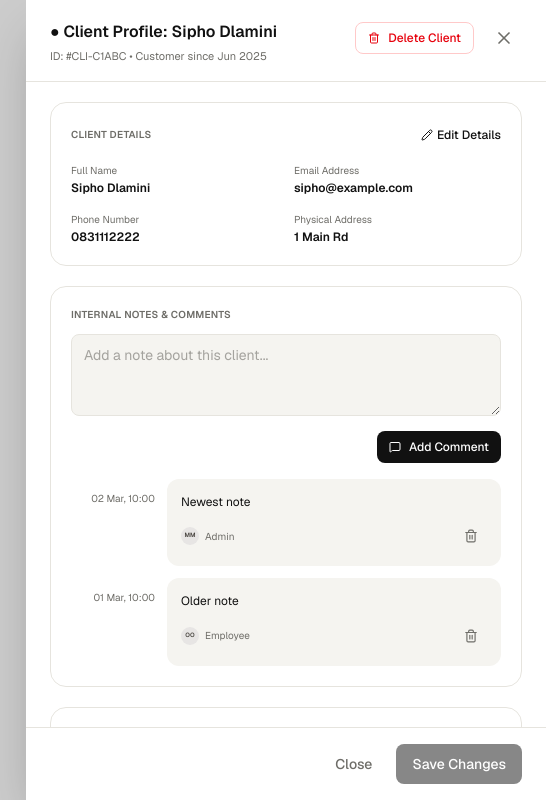
editing details › switches to editable inputs prefilled with the current values
This screenshot has width=546, height=800.
Expected: the heading "● Client Profile: Sipho Dlamini" is shown, [50,20,277,44]
Click the button "Edit Details" at point(461, 134), box [421,122,501,146]
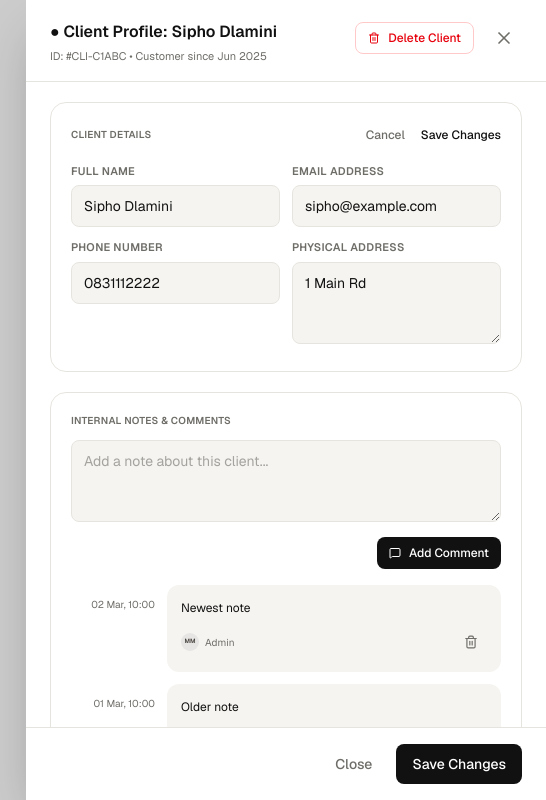
Expected: the field showing "Sipho Dlamini" is shown, [71,185,280,227]
Expected: the field showing "sipho@example.com" is shown, [292,185,501,227]
Expected: the field showing "0831112222" is shown, [71,262,280,304]
